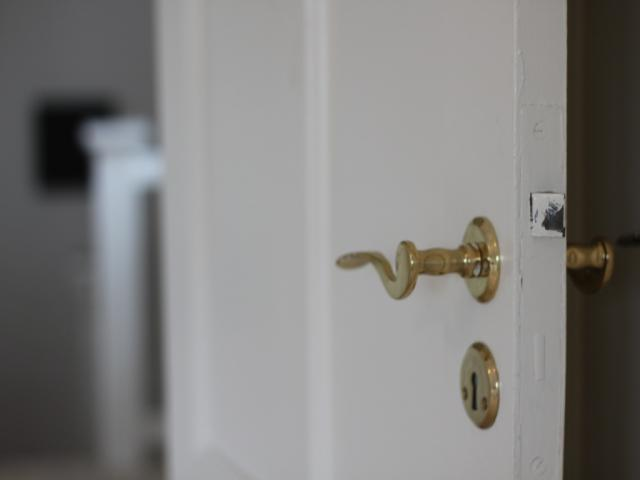Door-handle: (335, 216, 500, 305), (566, 238, 614, 298)
